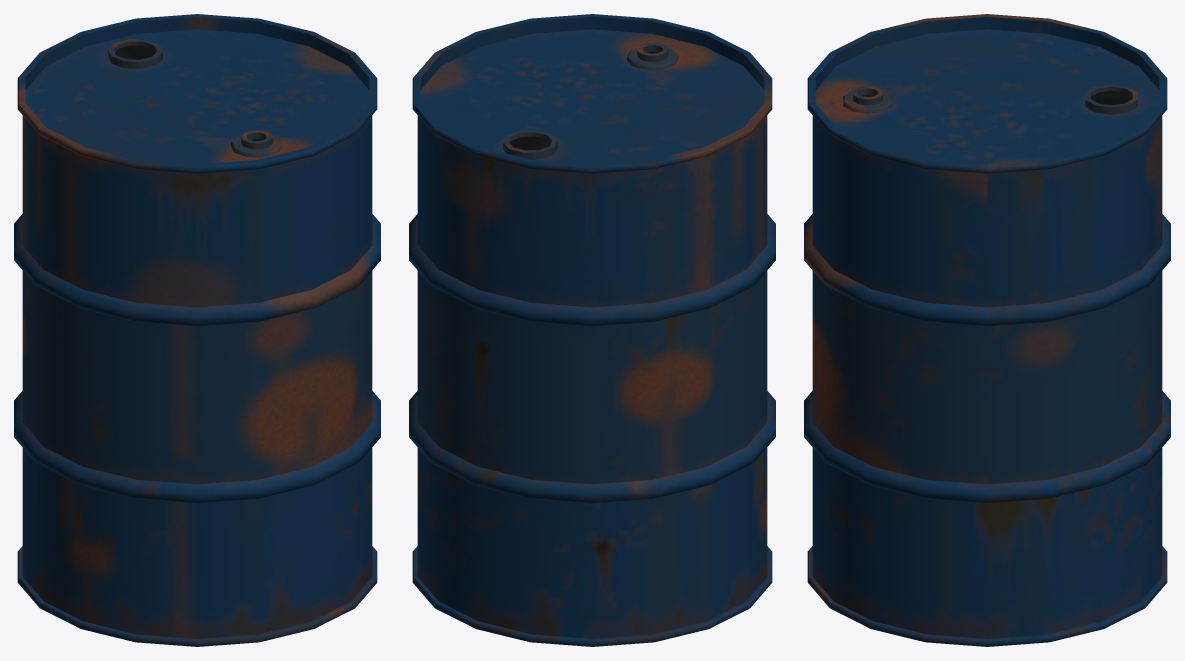
Rendered from drum_blue.glb.
The picture shows the model from 3 angles, left to right: view 1: azimuth 30°, elevation 25°; view 2: azimuth 150°, elevation 25°; view 3: azimuth 270°, elevation 25°; orthographic projection.
Parts seen in each view (by area): view 1: dock; view 2: dock; view 3: dock.
Boxes of the visible parts, bbox=[...] form: dock: bbox=[14, 14, 380, 646]; dock: bbox=[409, 14, 775, 646]; dock: bbox=[804, 14, 1170, 646].
Bounding box in the file's own units: 0.624 × 0.887 × 0.6145.
Materials: 1 (1 with a texture image).
